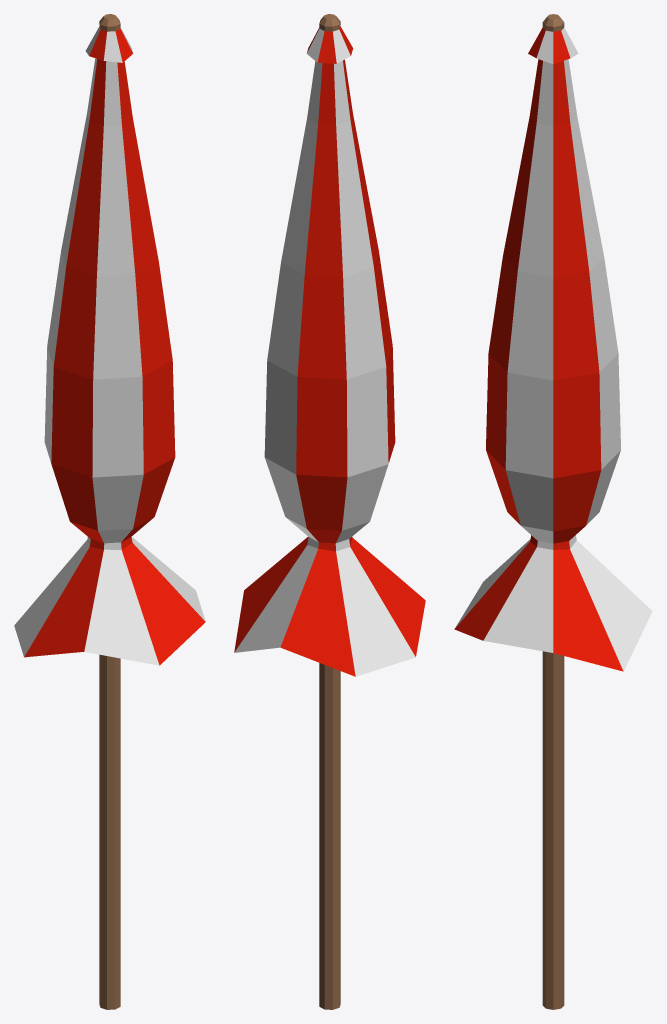
The model's file is ParasolClosed1_v1.fbx.
The picture shows the model from 3 angles, left to right: view 1: azimuth 30°, elevation 25°; view 2: azimuth 150°, elevation 25°; view 3: azimuth 270°, elevation 25°; orthographic projection.
Parts seen in each view (by area): view 1: Cylinder.157; view 2: Cylinder.157; view 3: Cylinder.157.
Boxes of the visible parts, x1,y1,x2,y2 form: Cylinder.157: [14, 14, 205, 1009]; Cylinder.157: [234, 14, 425, 1009]; Cylinder.157: [454, 14, 652, 1009].
Size of the model in its own units: 149 by 817 by 149.
